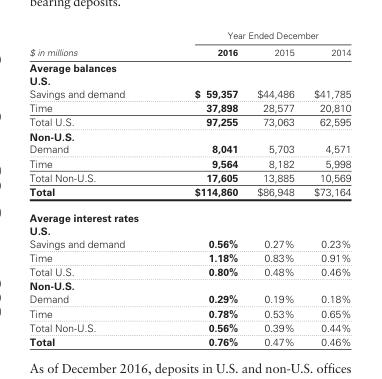table: (28, 29, 350, 347)
table column: (28, 29, 159, 347), (159, 29, 246, 347), (246, 29, 303, 347), (303, 29, 350, 347)
table column header: (28, 29, 350, 59)
table projected row header: (28, 204, 350, 223), (28, 59, 350, 73), (28, 128, 350, 142), (28, 278, 350, 292), (28, 73, 350, 86), (28, 223, 350, 236)
table row: (28, 184, 350, 204), (28, 204, 350, 223), (28, 43, 350, 59), (28, 155, 350, 170), (28, 319, 350, 334), (28, 29, 350, 43), (28, 59, 350, 73), (28, 86, 350, 100), (28, 100, 350, 114), (28, 114, 350, 128), (28, 128, 350, 142), (28, 170, 350, 184), (28, 236, 350, 250), (28, 250, 350, 264), (28, 264, 350, 278), (28, 278, 350, 292), (28, 305, 350, 319), (28, 73, 350, 86), (28, 142, 350, 155), (28, 223, 350, 236), (28, 292, 350, 305), (28, 334, 350, 347)
table spanning cell: (28, 29, 159, 59), (159, 29, 350, 43)
